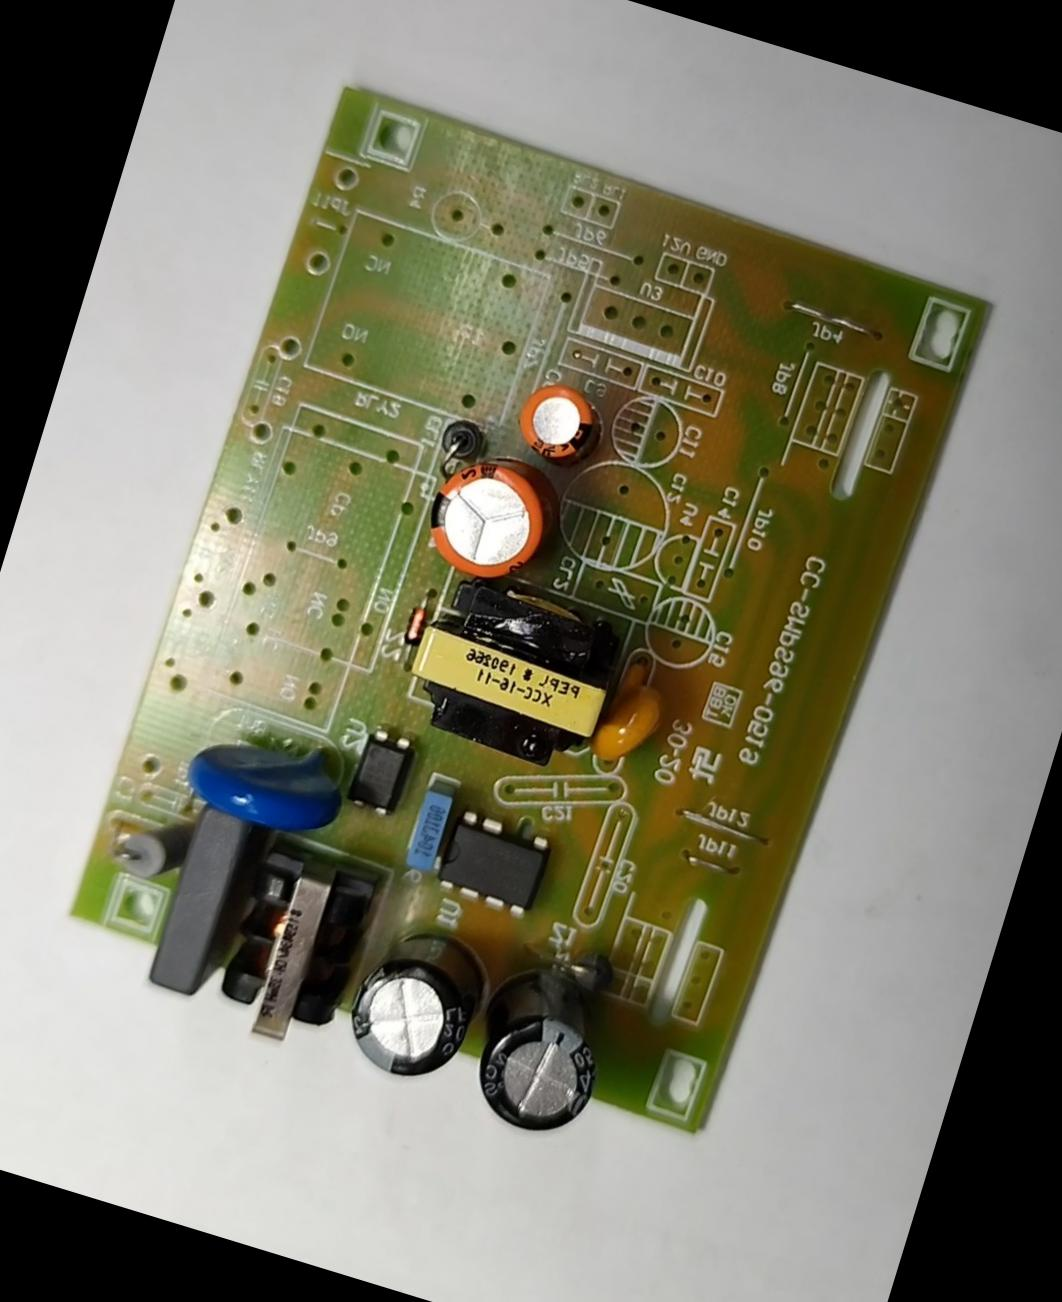Cap1: (415, 444, 558, 593)
Cap2: (507, 372, 606, 473)
Cap3: (333, 913, 497, 1097)
Cap4: (457, 960, 622, 1145)
MOSFET: (432, 805, 556, 920)
Mov: (178, 706, 358, 843)
Resistor: (105, 805, 193, 890)
Transformer: (391, 563, 634, 779), (204, 835, 385, 1057)
